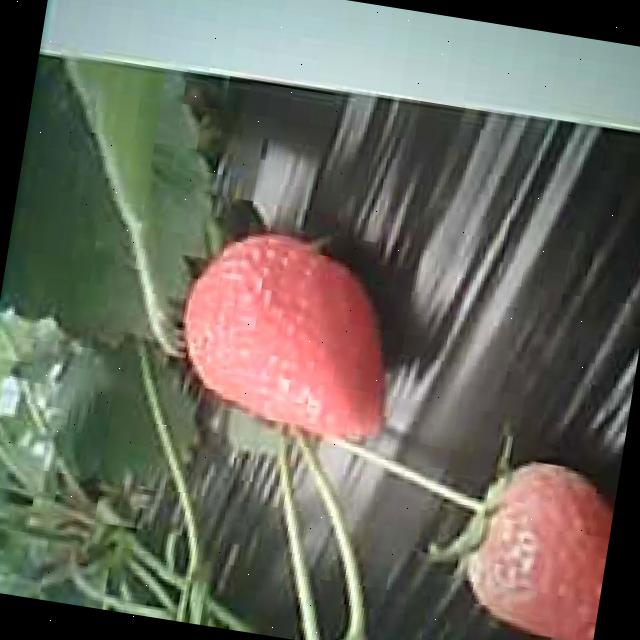strawberry: (167, 222, 405, 444), (448, 453, 619, 640)
